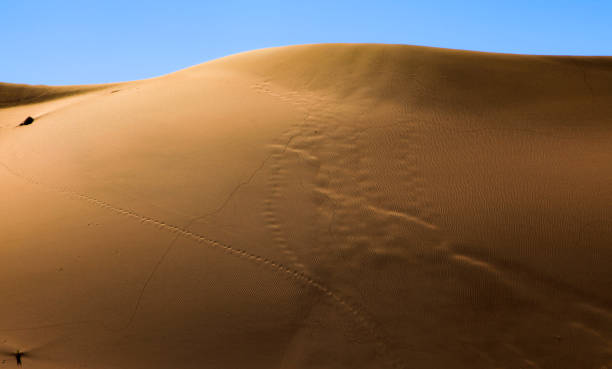animal_footprint: (0, 162, 392, 359)
